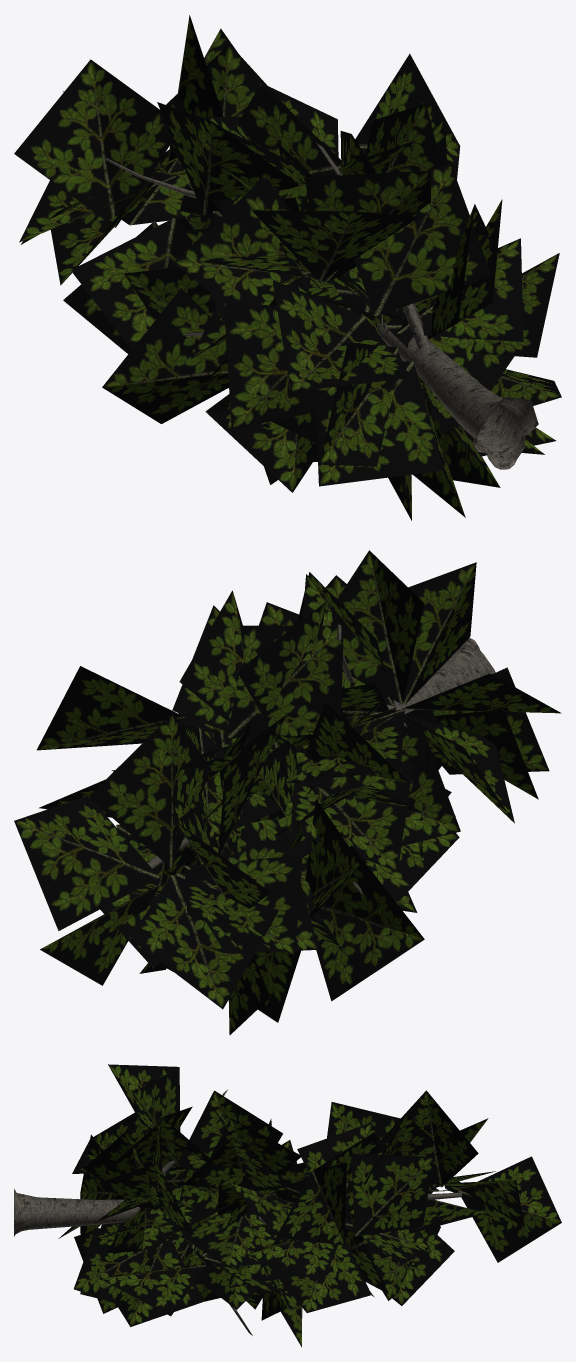
Rendered from tree_5.glb.
3 renders of one model, top to bottom at view 1: azimuth 30°, elevation 25°; view 2: azimuth 150°, elevation 25°; view 3: azimuth 270°, elevation 25°, orthographic. The views are drawn at different scales.
Parts seen in each view (by area): view 1: tree_5_leaves, tree_5; view 2: tree_5_leaves, tree_5; view 3: tree_5_leaves, tree_5.
Part boxes in pixels (left/top/right/bottom): tree_5_leaves: left=14, top=15, right=561, bottom=520; tree_5: left=103, top=143, right=538, bottom=469; tree_5_leaves: left=14, top=550, right=561, bottom=1035; tree_5: left=111, top=624, right=495, bottom=894; tree_5_leaves: left=58, top=1064, right=561, bottom=1347; tree_5: left=14, top=1089, right=461, bottom=1335.
Size of the model in its own units: 3.66 by 3.64 by 6.91.
Materials: 2 (2 with a texture image).
